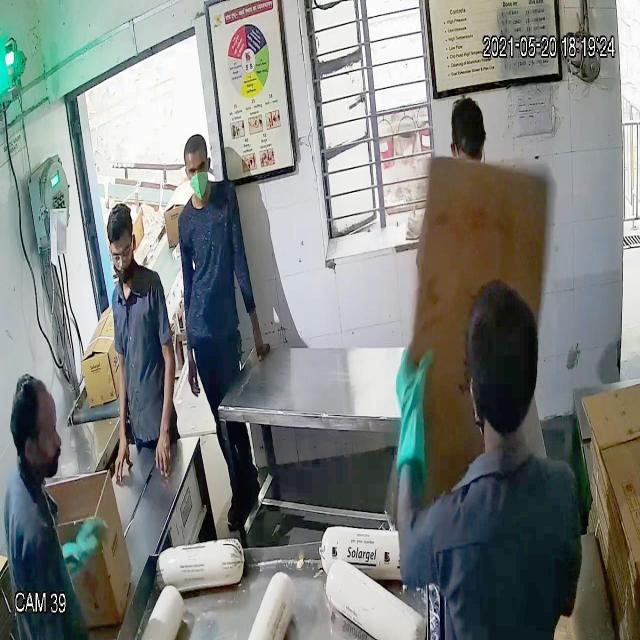glasses: (104, 237, 138, 271)
no-glass: (179, 157, 215, 183)
